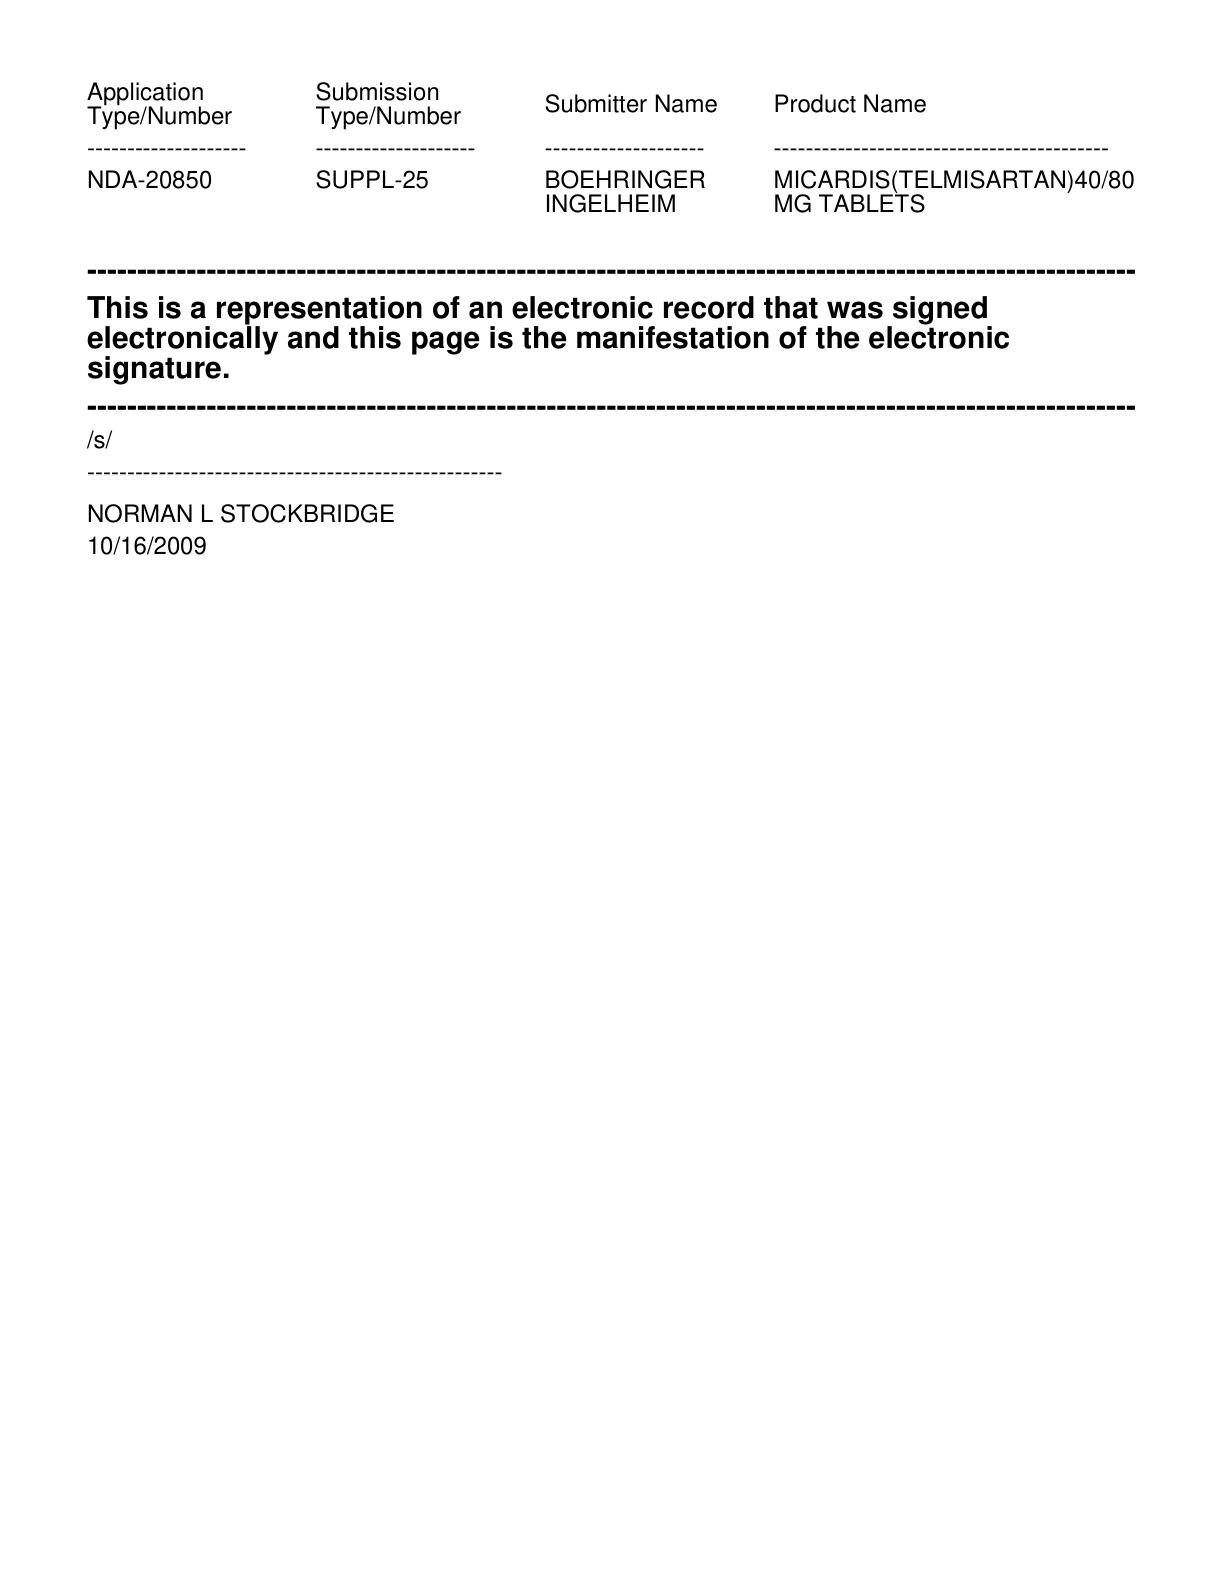nolines: (85, 80, 1137, 216)
